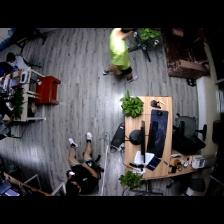normal: (64, 136, 98, 193), (105, 28, 142, 78), (5, 49, 26, 73)
